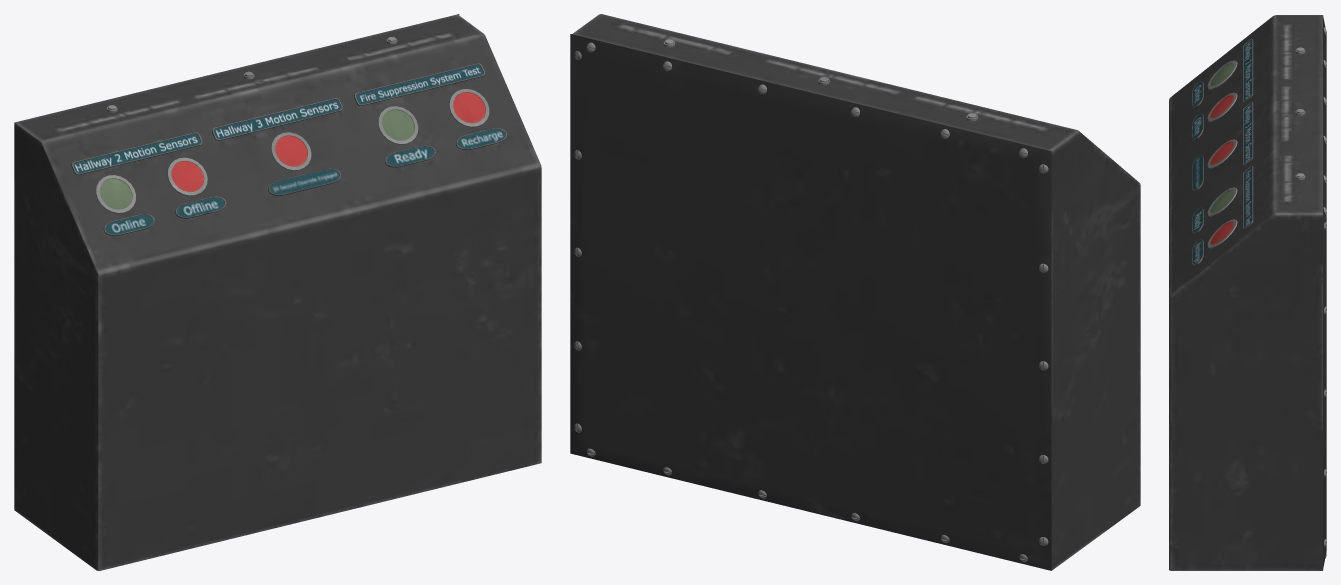
The model's file is security-console.glb.
The picture shows the model from 3 angles, left to right: view 1: azimuth 30°, elevation 25°; view 2: azimuth 150°, elevation 25°; view 3: azimuth 270°, elevation 25°; orthographic projection. The views are drawn at different scales.
Parts seen in each view (by area): view 1: SecurityConsoleBody_Model1, SecurityConsoleLight_Model, SecurityConsoleLabelSmall_Model, SecurityConsoleLabel_Model, SecurityConsoleLabel_Model1, SecurityConsoleLabel_Model2; view 2: SecurityConsoleBackBody_Model, SecurityConsoleBody_Model1, SecurityConsoleBolts_Model; view 3: SecurityConsoleBody_Model1, SecurityConsoleLight_Model, SecurityConsoleBackBody_Model, SecurityConsoleLabelSmall_Model, SecurityConsoleLabel_Model, SecurityConsoleLabel_Model1, SecurityConsoleLabel_Model2, SecurityConsoleBolts_Model.
Part boxes in pixels (x1,y1,x2,y2): SecurityConsoleBody_Model1: (14, 14, 541, 570); SecurityConsoleLight_Model: (95, 89, 489, 213); SecurityConsoleLabelSmall_Model: (103, 128, 506, 235); SecurityConsoleLabel_Model: (71, 132, 202, 174); SecurityConsoleLabel_Model1: (212, 98, 342, 140); SecurityConsoleLabel_Model2: (354, 63, 484, 105); SecurityConsoleBackBody_Model: (570, 34, 1051, 570); SecurityConsoleBody_Model1: (572, 14, 1140, 570); SecurityConsoleBolts_Model: (574, 42, 1048, 562); SecurityConsoleBody_Model1: (1169, 15, 1322, 570); SecurityConsoleLight_Model: (1207, 60, 1237, 248); SecurityConsoleBackBody_Model: (1323, 15, 1326, 569); SecurityConsoleLabelSmall_Model: (1192, 81, 1203, 265); SecurityConsoleLabel_Model: (1243, 39, 1253, 102); SecurityConsoleLabel_Model1: (1243, 102, 1253, 165); SecurityConsoleLabel_Model2: (1243, 166, 1253, 229); SecurityConsoleBolts_Model: (1323, 27, 1326, 558).
Size of the model in its own units: 1.19 by 1 by 0.3965.
1 material, 1 textured.
